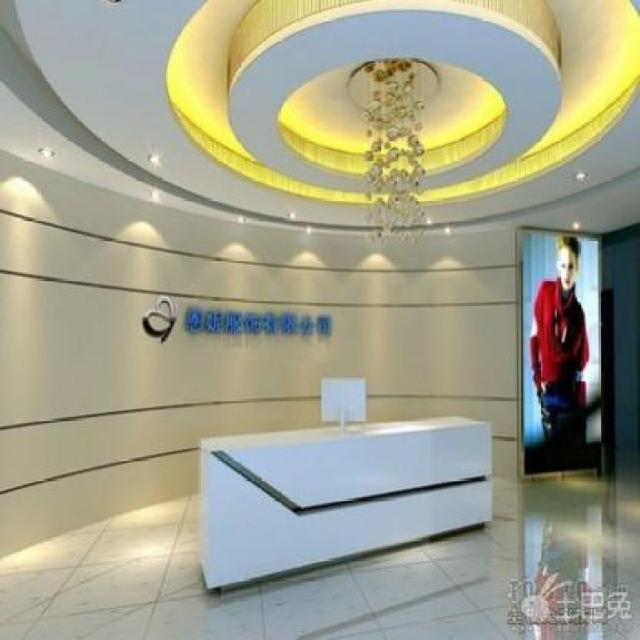frontdesk: (180, 406, 500, 598)
